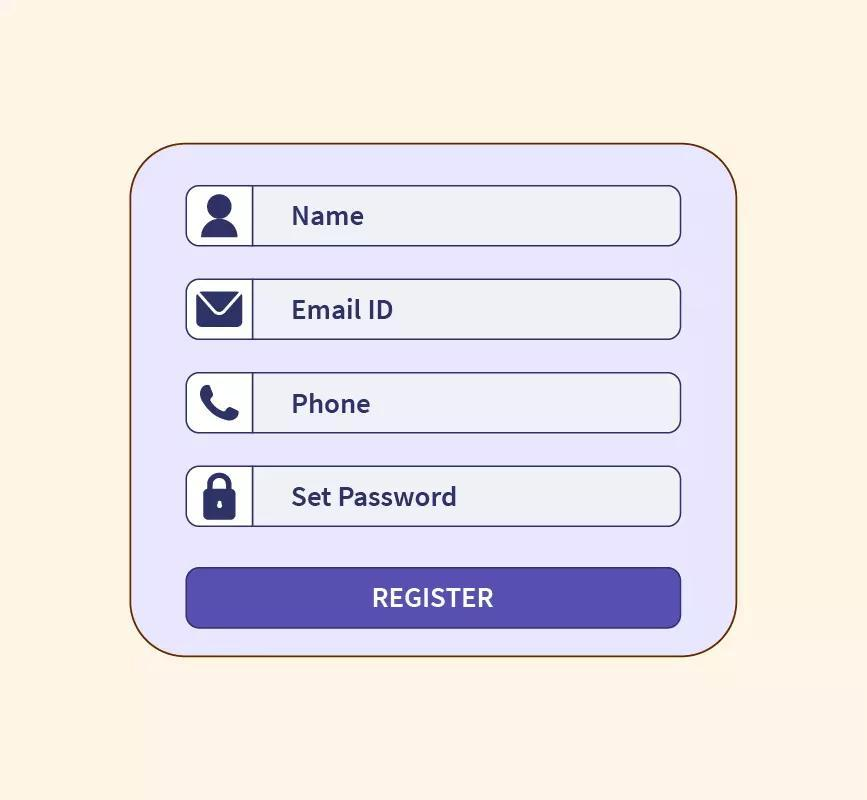button: (186, 562, 686, 635)
icon: (192, 186, 248, 246), (202, 472, 244, 527), (195, 287, 246, 331), (198, 381, 244, 423)
input: (250, 365, 682, 439), (256, 182, 682, 250), (256, 467, 683, 531), (253, 278, 682, 340)
